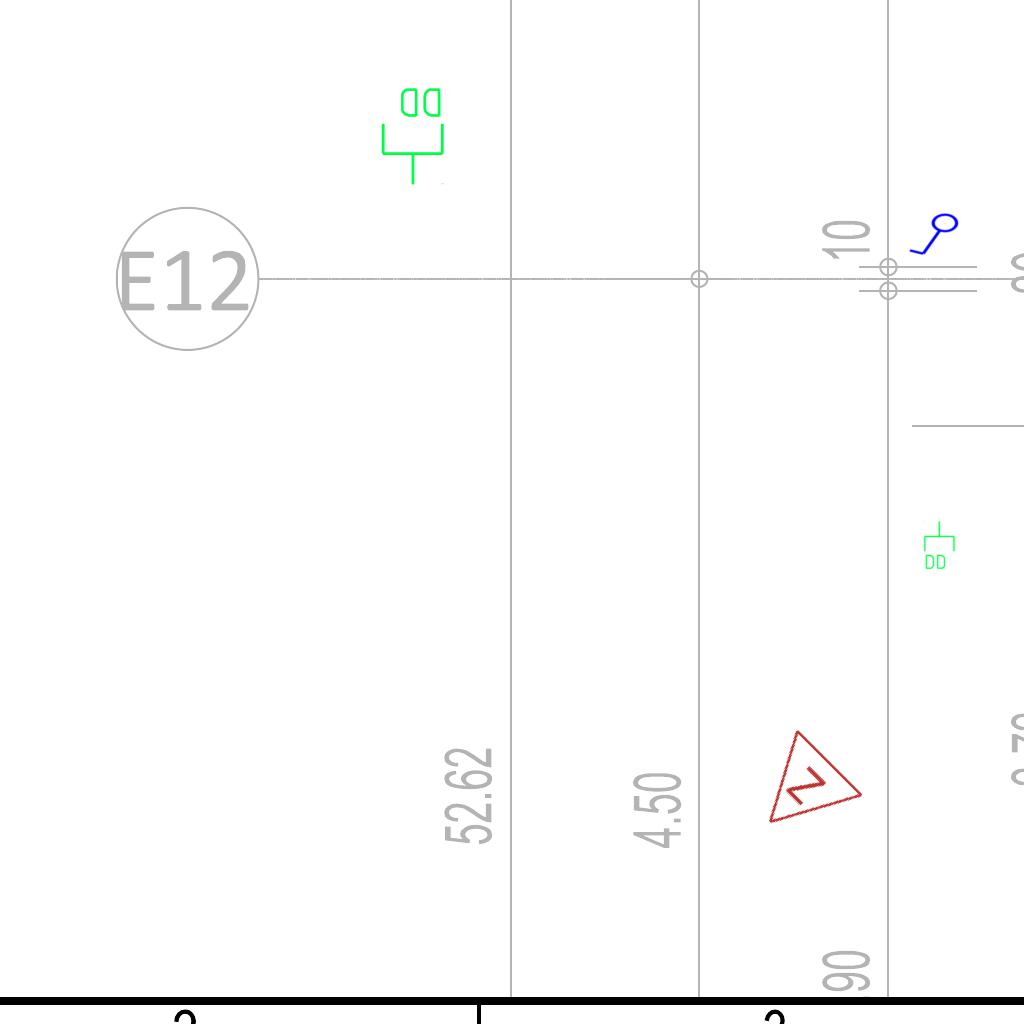Ausschalter: (908, 212, 964, 260)
Datenanschluss_zweifach: (379, 84, 448, 187), (922, 520, 956, 571)
Zimmersignalleuchte: (730, 722, 872, 864)
